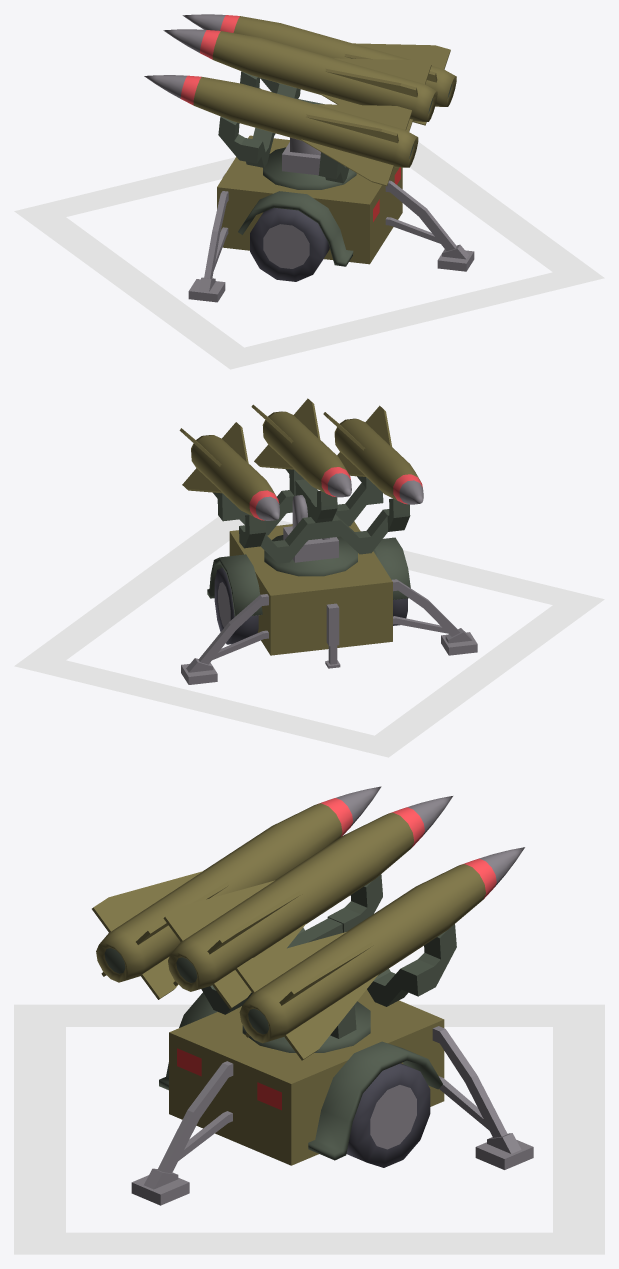
The model's file is ProSystem.fbx.
The picture shows the model from 3 angles, top to bottom: view 1: azimuth 30°, elevation 25°; view 2: azimuth 150°, elevation 25°; view 3: azimuth 270°, elevation 25°; orthographic projection. The views are drawn at different scales.
Parts seen in each view (by area): view 1: PRO System; view 2: PRO System; view 3: PRO System.
Boxes of the visible parts, bbox=[...] form: PRO System: bbox=[14, 14, 604, 369]; PRO System: bbox=[14, 398, 604, 757]; PRO System: bbox=[14, 786, 604, 1254].
Bounding box in the file's own units: 238 × 124 × 238.
